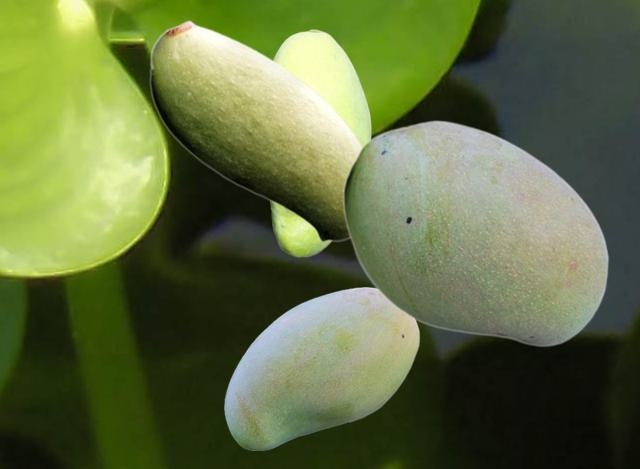green_mango: (342, 119, 608, 346), (149, 19, 362, 242), (224, 287, 419, 449), (269, 29, 370, 256)
